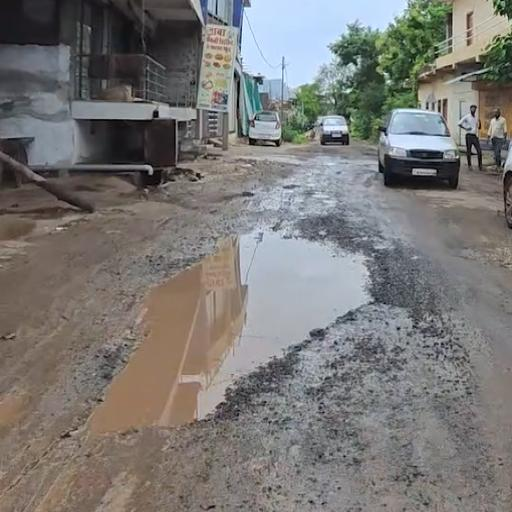pothole: (60, 150, 411, 472)
